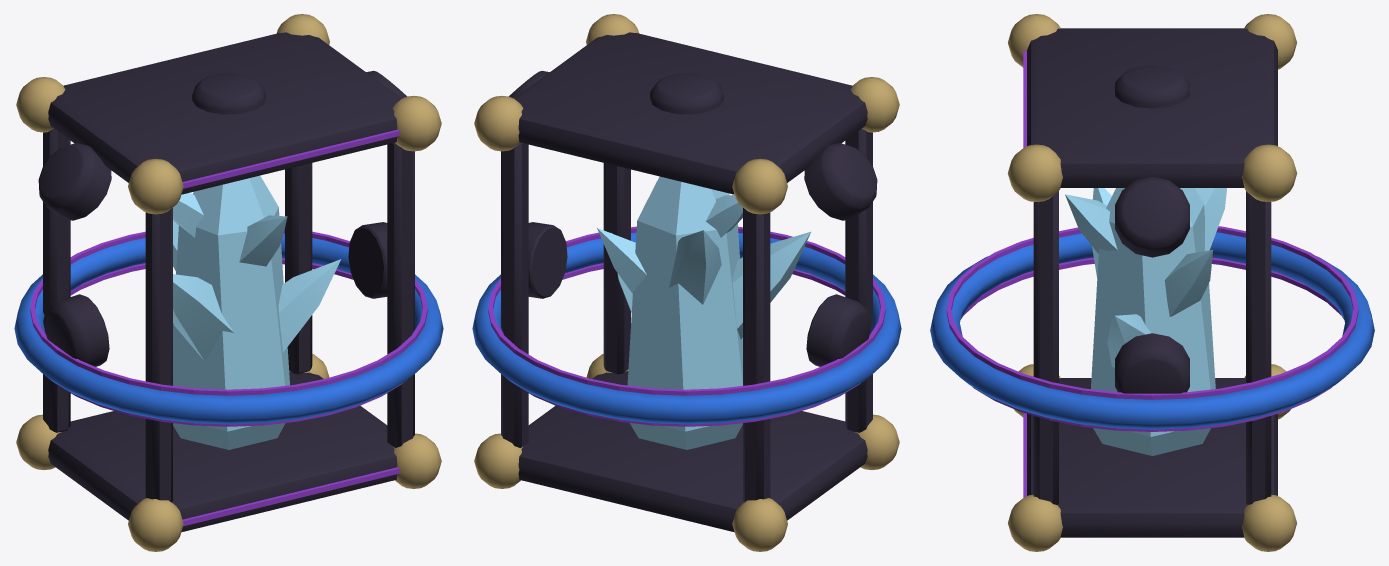
Rendered from Kit_Core_LeagueCrystal.glb.
3 renders of one model, left to right at view 1: azimuth 30°, elevation 25°; view 2: azimuth 150°, elevation 25°; view 3: azimuth 270°, elevation 25°, orthographic. The views are drawn at different scales.
Parts seen in each view (by area): view 1: Kit_Core_LeagueCrystal; view 2: Kit_Core_LeagueCrystal; view 3: Kit_Core_LeagueCrystal.
Boxes of the visible parts, box(x1,y1,x2,y2) form: Kit_Core_LeagueCrystal: box(14, 14, 443, 551); Kit_Core_LeagueCrystal: box(472, 14, 901, 551); Kit_Core_LeagueCrystal: box(930, 14, 1374, 551).
Size of the model in its own units: 0.4609 by 0.4881 by 0.4609.
